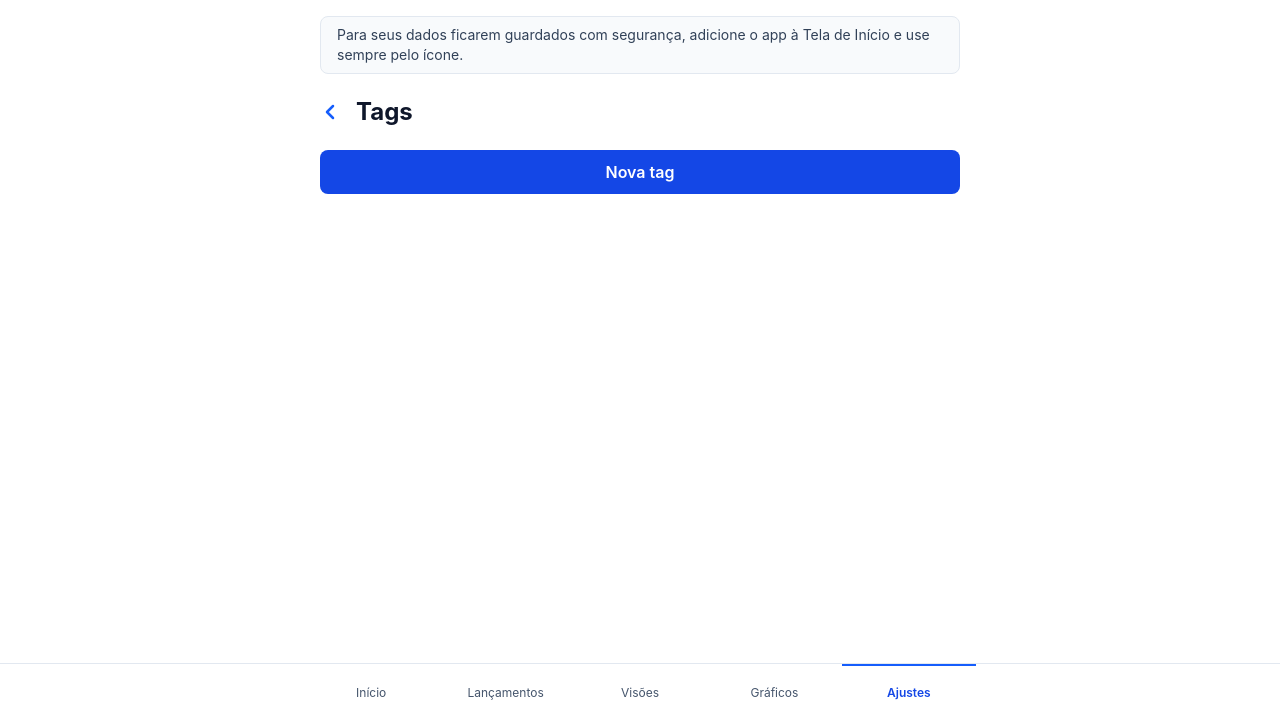
Test: TagForm — botão "Salvar" e erros enquanto digita (princípio 16 / D-36) › "Nova tag" começa com "Salvar" desabilitado e sem mensagem de erro
Click the button "Nova tag": [640, 172] box x1=320 y1=150 x2=960 y2=194
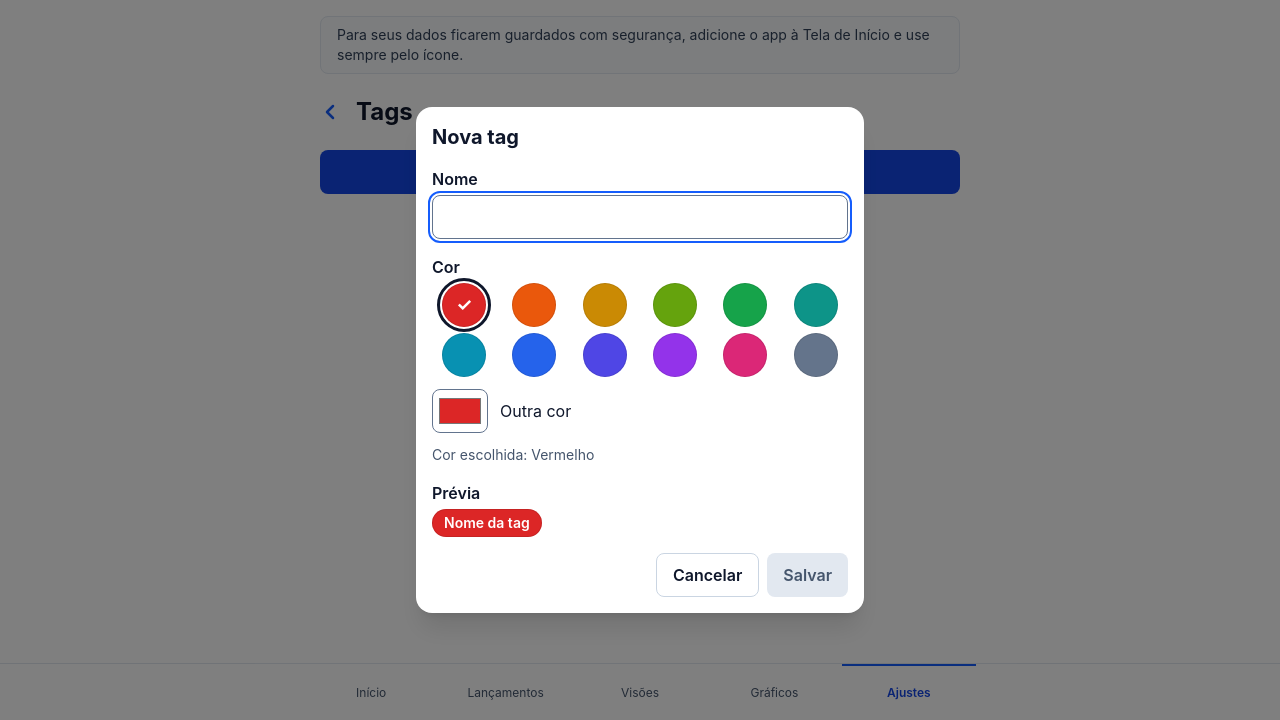
Expected: the button "Salvar" is disabled, x1=767 y1=553 x2=848 y2=597
